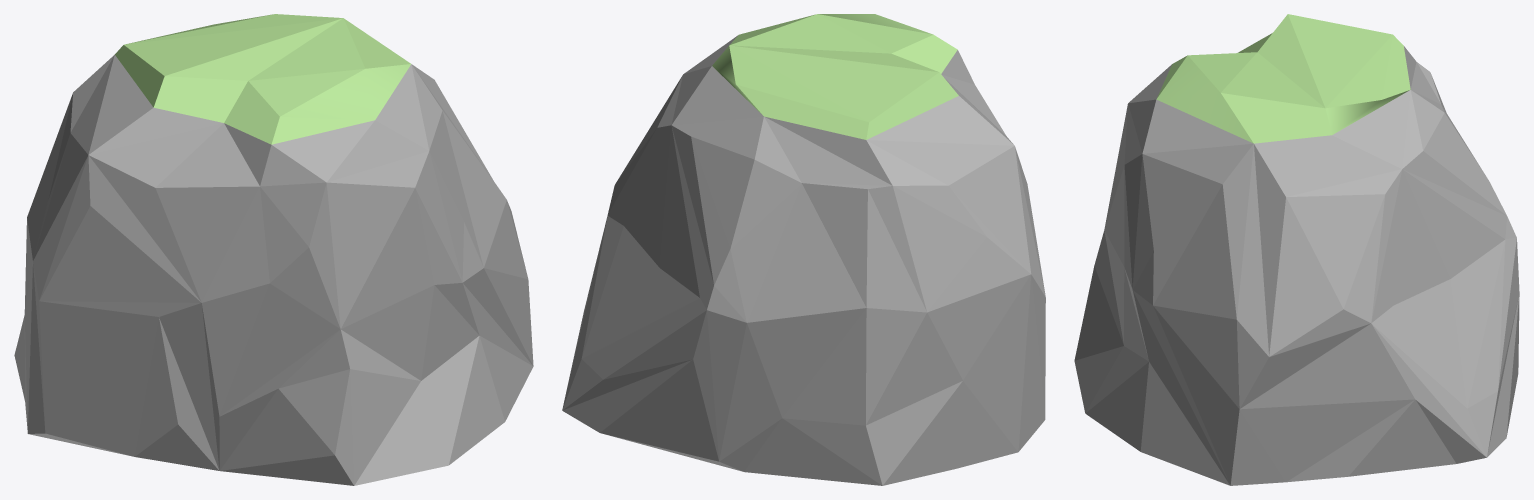
Rendered from Rockbig2.fbx.
The picture shows the model from 3 angles, left to right: view 1: azimuth 30°, elevation 25°; view 2: azimuth 150°, elevation 25°; view 3: azimuth 270°, elevation 25°; orthographic projection. The views are drawn at different scales.
Parts seen in each view (by area): view 1: Rock; view 2: Rock; view 3: Rock.
Boxes of the visible parts, <box> form: Rock: <box>14,14,533,485</box>; Rock: <box>562,14,1045,485</box>; Rock: <box>1074,14,1519,485</box>.
Bounding box in the file's own units: 4.87 × 3.58 × 4.49.
1 material, 1 textured.
